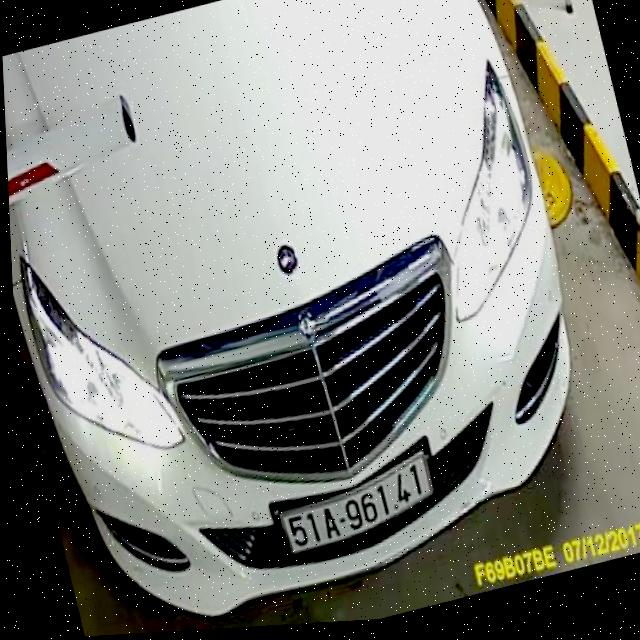car: (0, 0, 631, 640)
plate: (269, 447, 442, 560)
